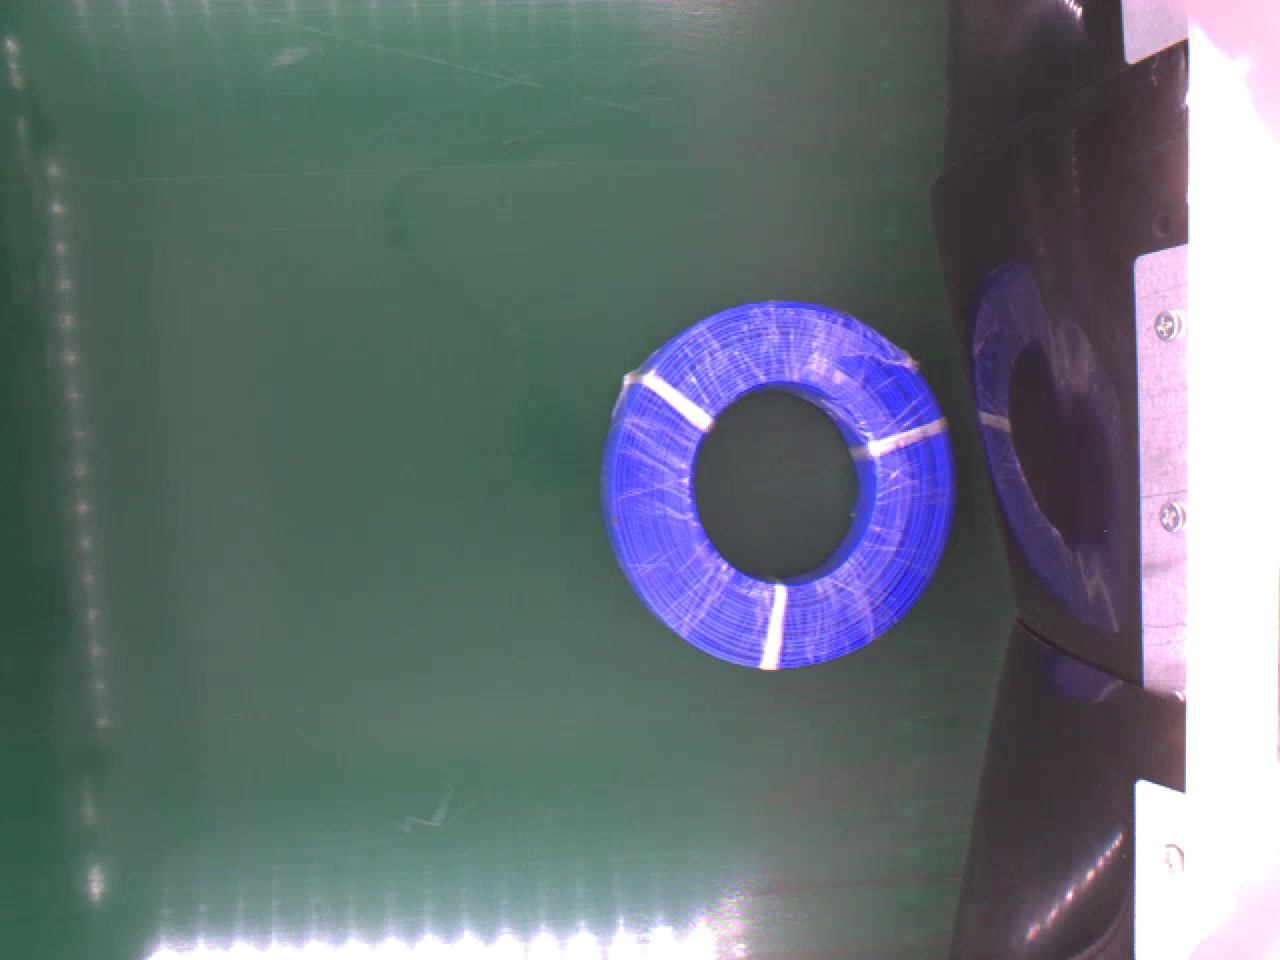blue: (597, 298, 959, 671)
